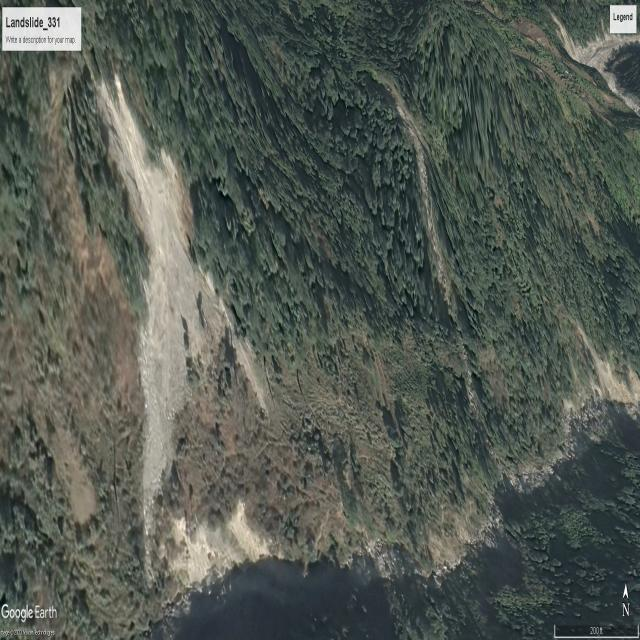Landslide: (99, 71, 248, 549)
